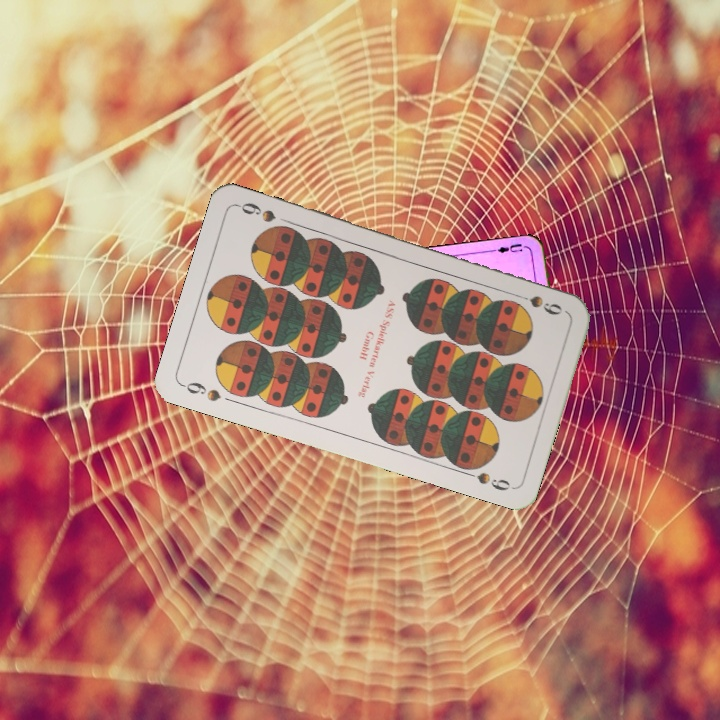EU: (494, 239, 525, 256)
S9: (510, 289, 565, 318), (178, 378, 224, 404)
